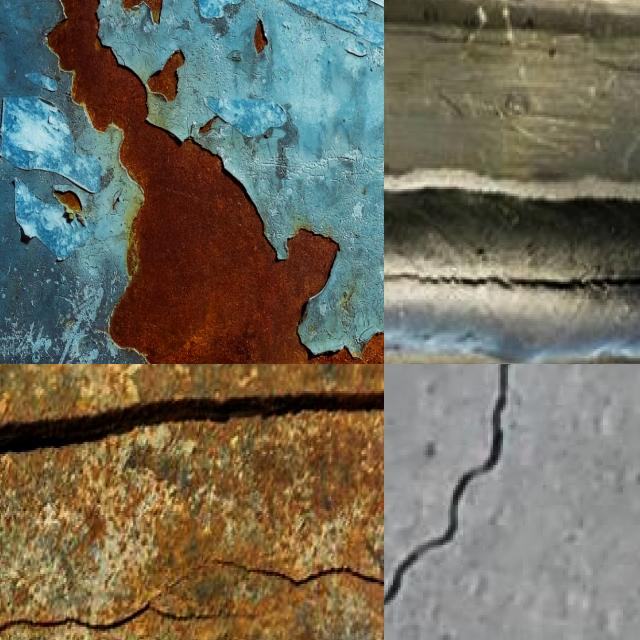Crack: (384, 364, 509, 605), (0, 390, 384, 450), (0, 598, 155, 633), (223, 562, 384, 586), (384, 275, 640, 289), (159, 608, 237, 621)
Uniform Corrosion: (47, 0, 384, 364), (147, 50, 183, 101), (55, 190, 83, 224), (122, 0, 161, 22), (254, 20, 267, 53)
